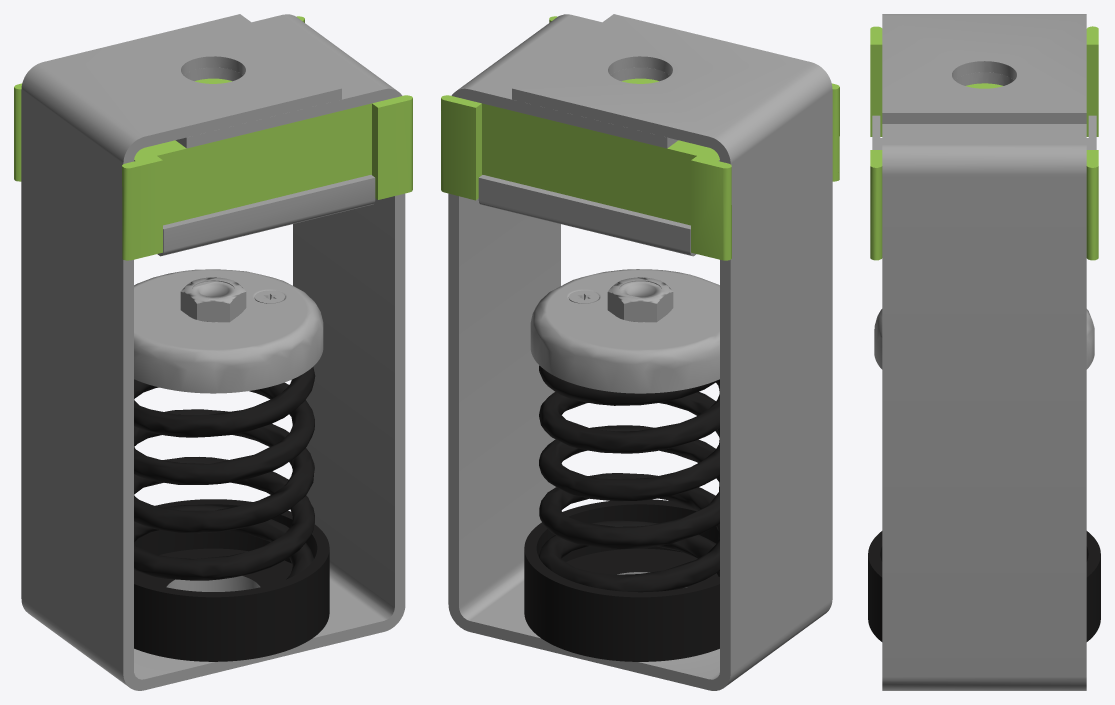
The model's file is SRS.fbx.
3 renders of one model, left to right at view 1: azimuth 30°, elevation 25°; view 2: azimuth 150°, elevation 25°; view 3: azimuth 270°, elevation 25°, orthographic.
Visible parts, largest first — view 1: SRS_Metal, SRS_Caucho; view 2: SRS_Metal, SRS_Caucho; view 3: SRS_Metal, SRS_Caucho.
Boxes of the visible parts, x1,y1,x2,y2 form: SRS_Metal: [21, 14, 405, 690]; SRS_Caucho: [14, 16, 412, 260]; SRS_Metal: [448, 14, 832, 690]; SRS_Caucho: [441, 16, 839, 260]; SRS_Metal: [868, 14, 1100, 690]; SRS_Caucho: [870, 26, 1098, 260].
Bounding box in the file's own units: 4.02 × 7.52 × 2.79.
